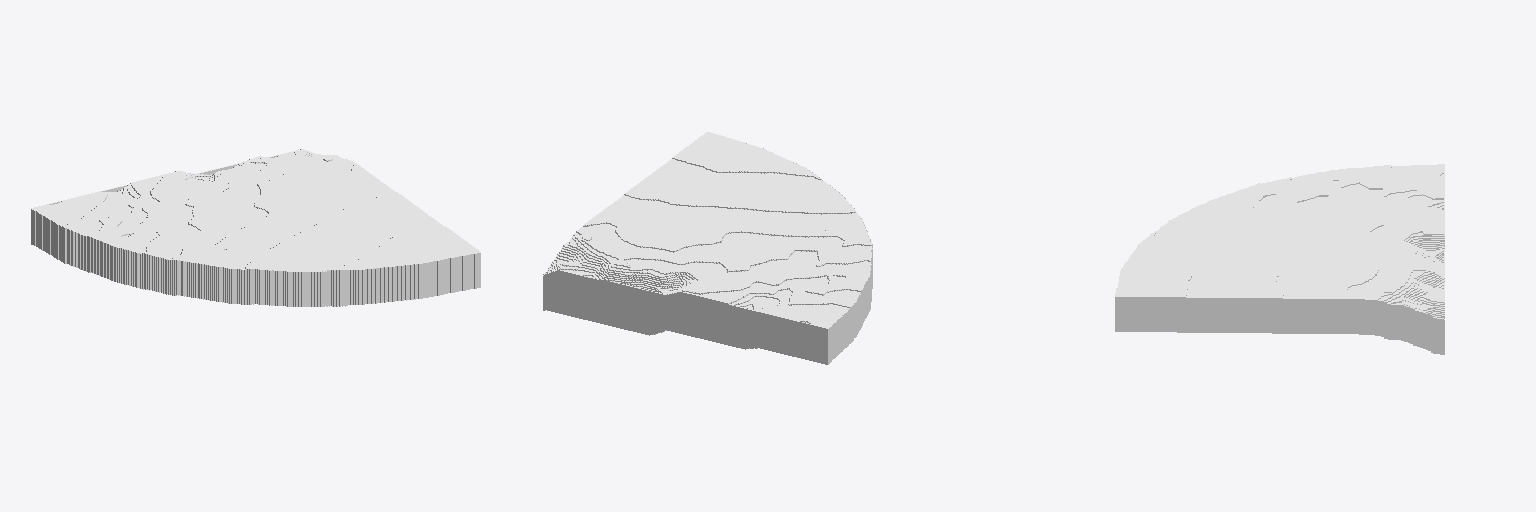
File: worldTest-1-world3.obj
3 views of the same model, side by side, from view 1: azimuth 30°, elevation 25°; view 2: azimuth 150°, elevation 25°; view 3: azimuth 270°, elevation 25° (orthographic).
Parts seen in each view (by area): view 1: world3; view 2: world3; view 3: world3.
Boxes of the visible parts, box(x1,y1,x2,y2) form: world3: box(31, 149, 480, 306); world3: box(543, 132, 872, 364); world3: box(1115, 164, 1444, 354).
Bounding box in the file's own units: 25.6 × 5 × 25.6.